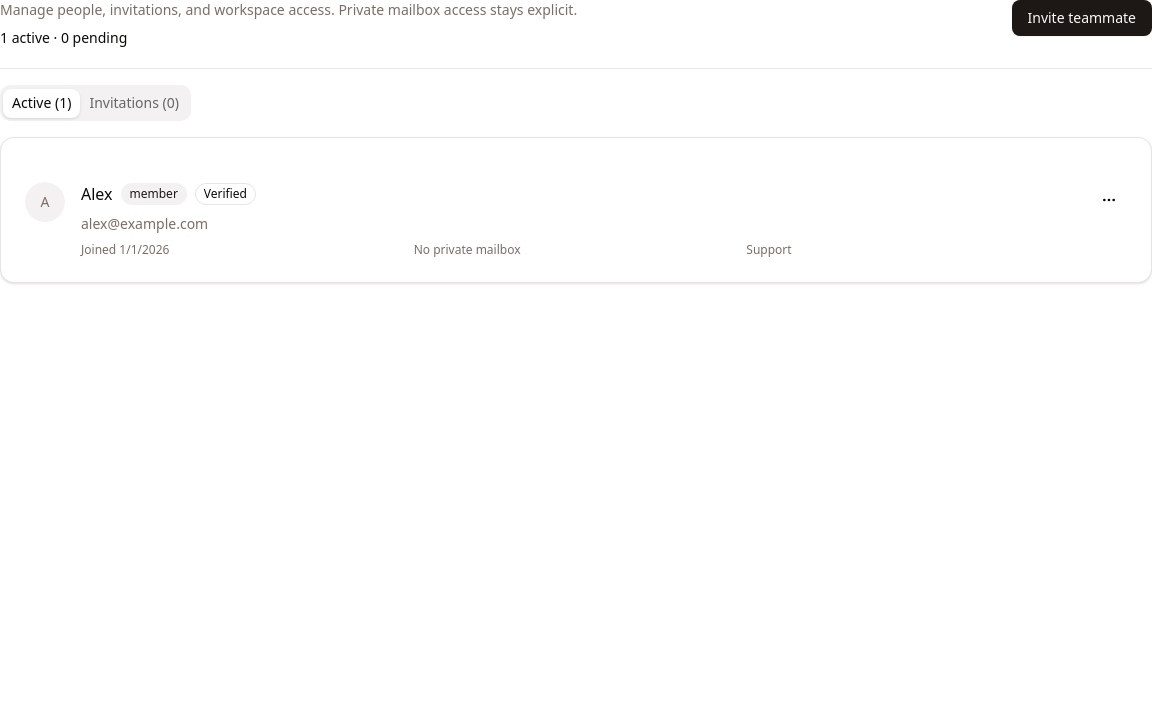
Test: TeamSettingsSection › requires the exact immutable identifier before enabling removal
This screenshot has width=1152, height=720.
Expected: the text "Alex" is shown, [81,182,112,206]
Press the mouse on the button named "Manage Alex" at (1109, 200), box [1091,182,1127,218]
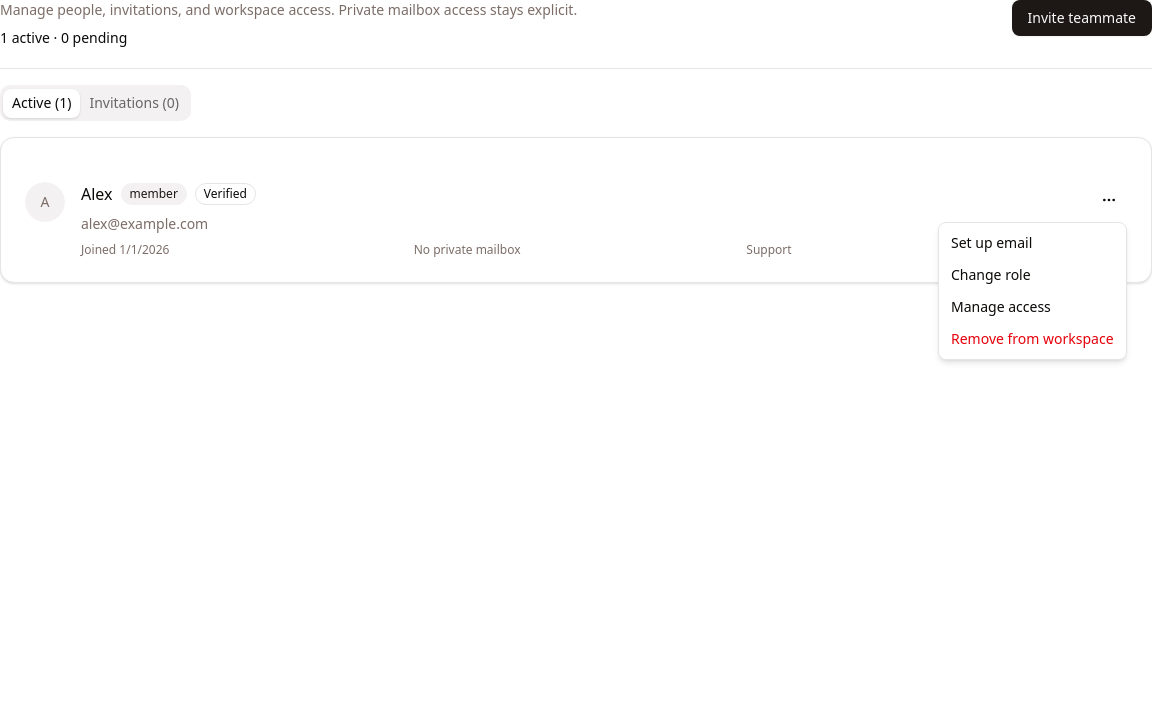
Click the menu item "Remove from workspace".
click(1032, 338)  # box [951,329,1114,348]
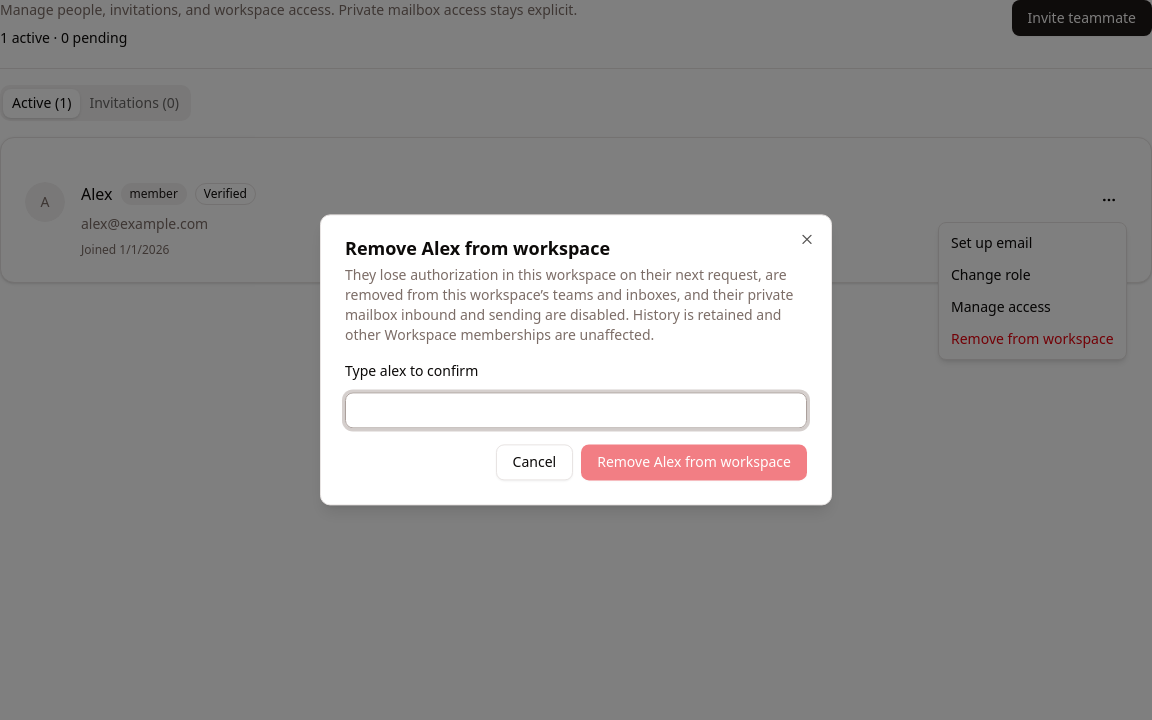
Now the button "Remove Alex from workspace" is disabled, box [581,445,807,481]
Type "alex" into the field labelled "Type alex to confirm".
click(576, 411); type("alex")  # box [345,393,807,429]
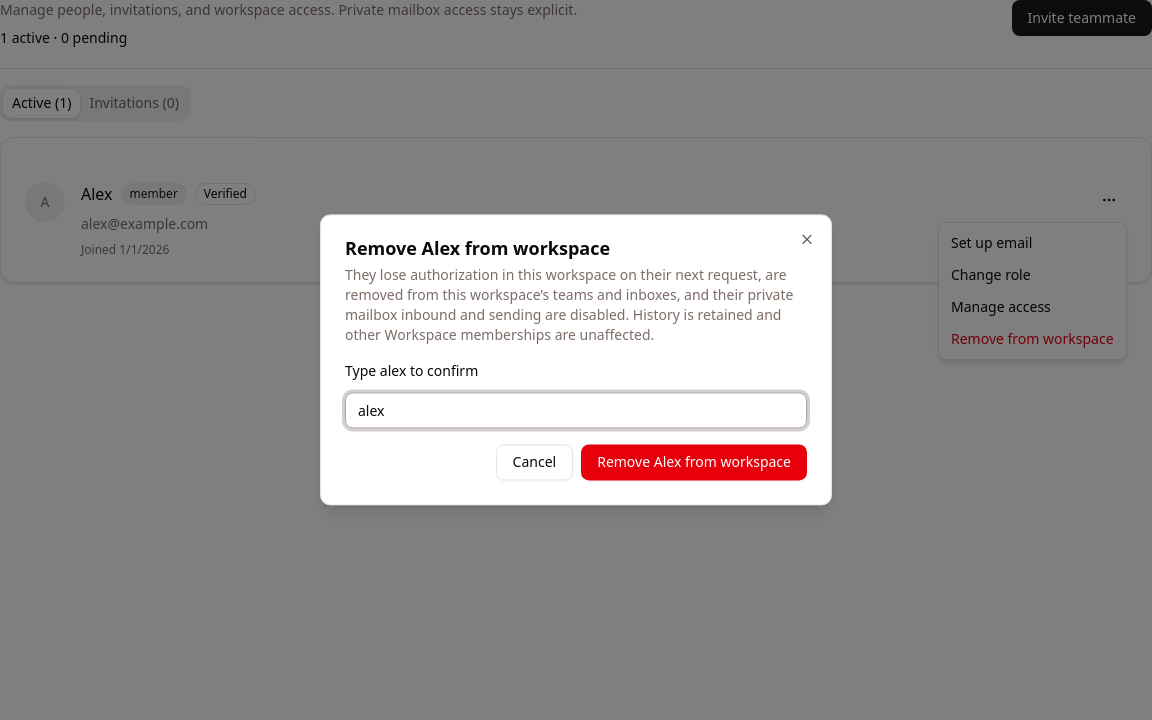
Now the button "Remove Alex from workspace" is enabled, box [581,445,807,481]
